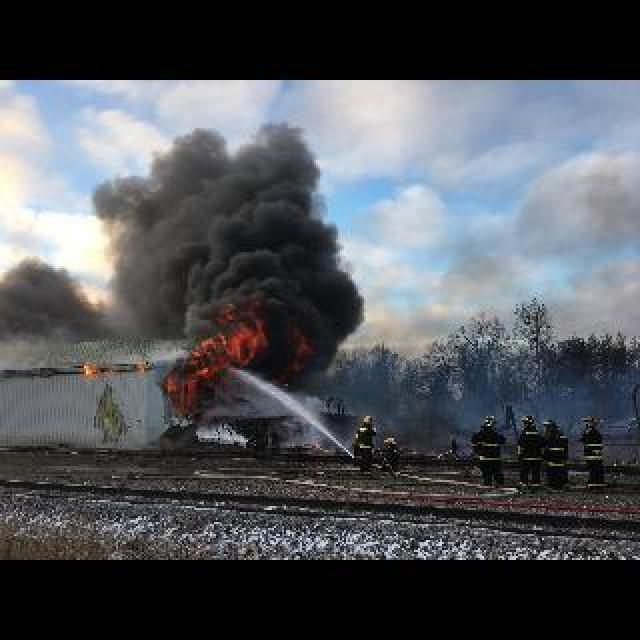Fire: (156, 326, 265, 408)
Smoke: (95, 117, 371, 308), (3, 254, 93, 331)
